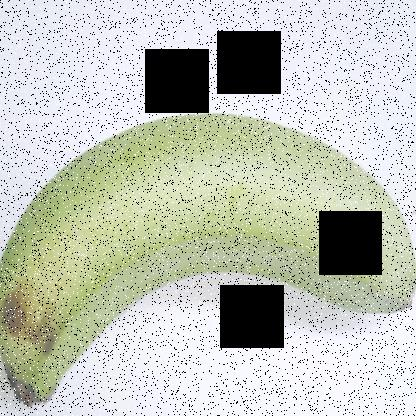freshunripe: (1, 86, 415, 415)
